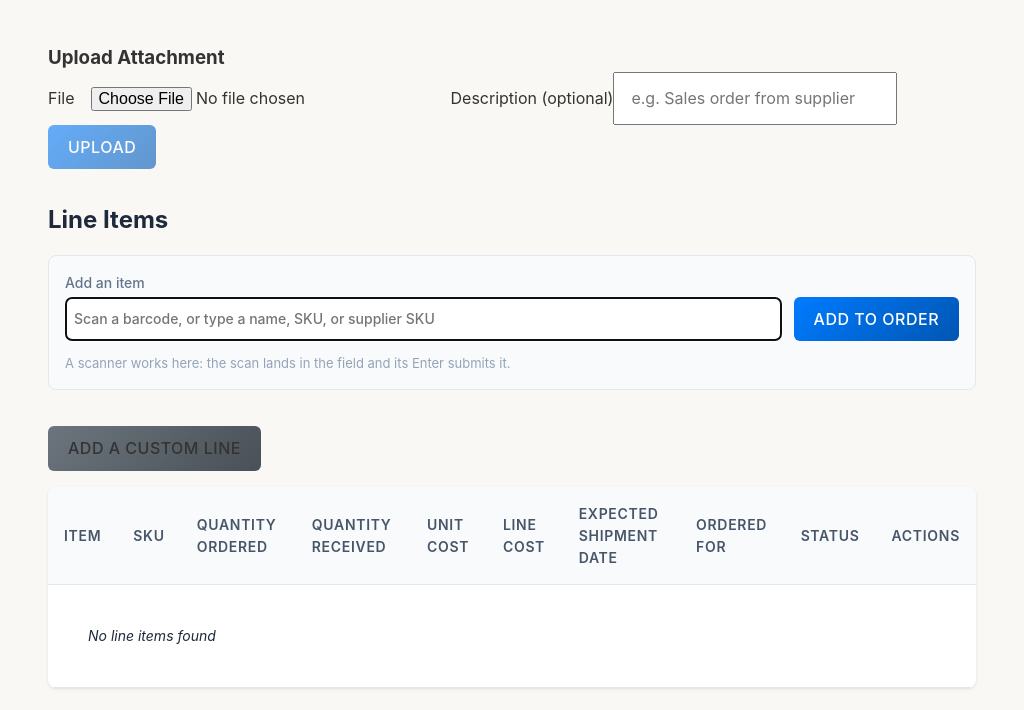
Scenario: PurchaseOrderPage — adding a custom (freeform) line › a server refusal lands under the custom-line form, not the scan field
(page scrolled)
Step 1. Click the button "Add a custom line" → (154, 449), box top-left (48, 426), bottom-right (261, 471)
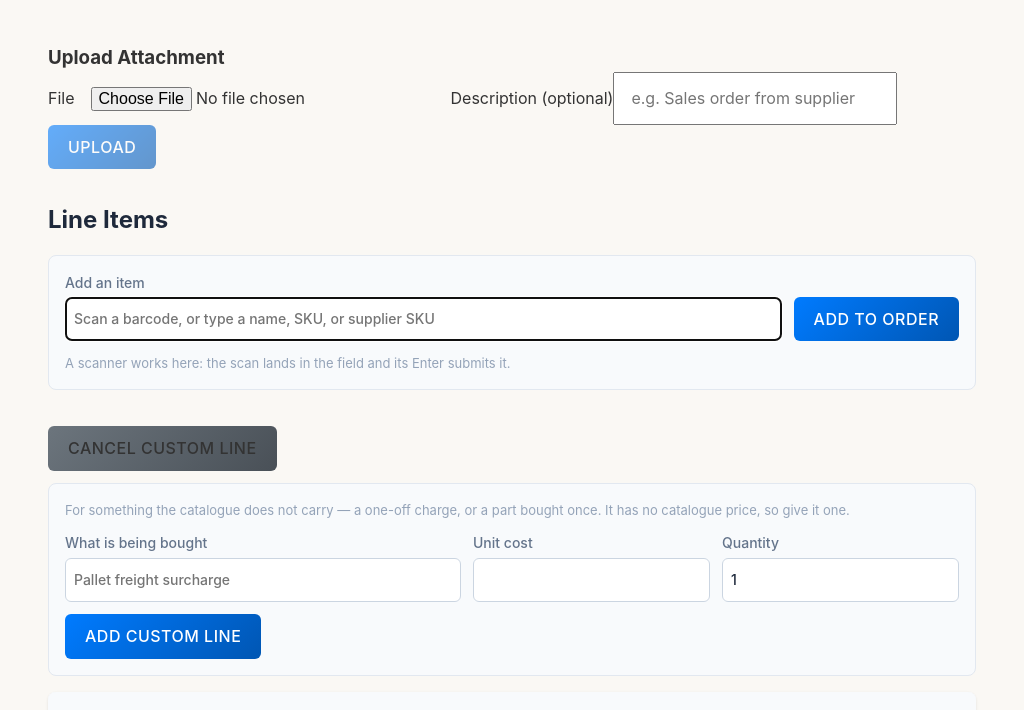
Step 2. Type "Crating" into the field labelled "What is being bought" → (263, 580), box top-left (65, 558), bottom-right (461, 602)
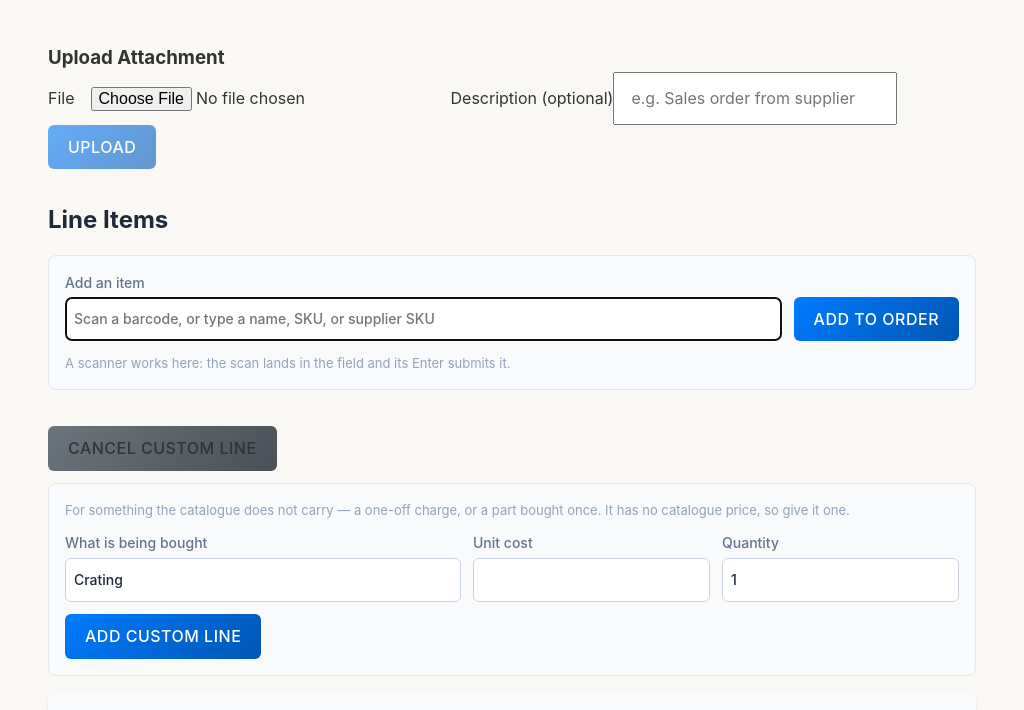
Step 3. Type "9" into the number field labelled "Unit cost" → (592, 580), box top-left (473, 558), bottom-right (710, 602)
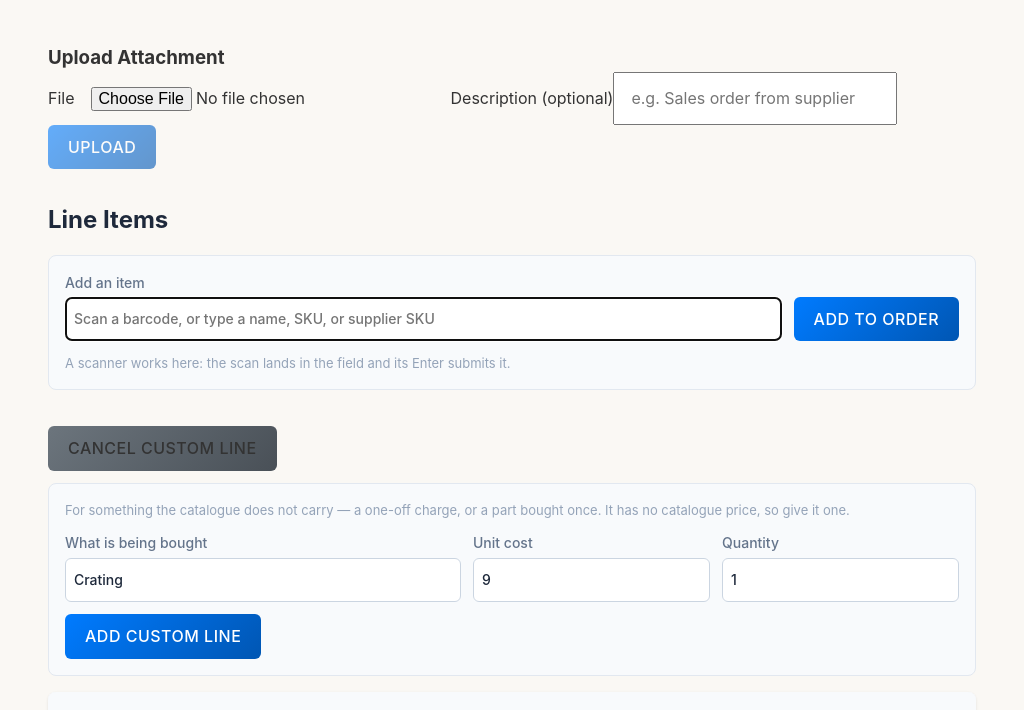
Step 4. Click the button "Add custom line" → (163, 636), box top-left (65, 614), bottom-right (261, 659)
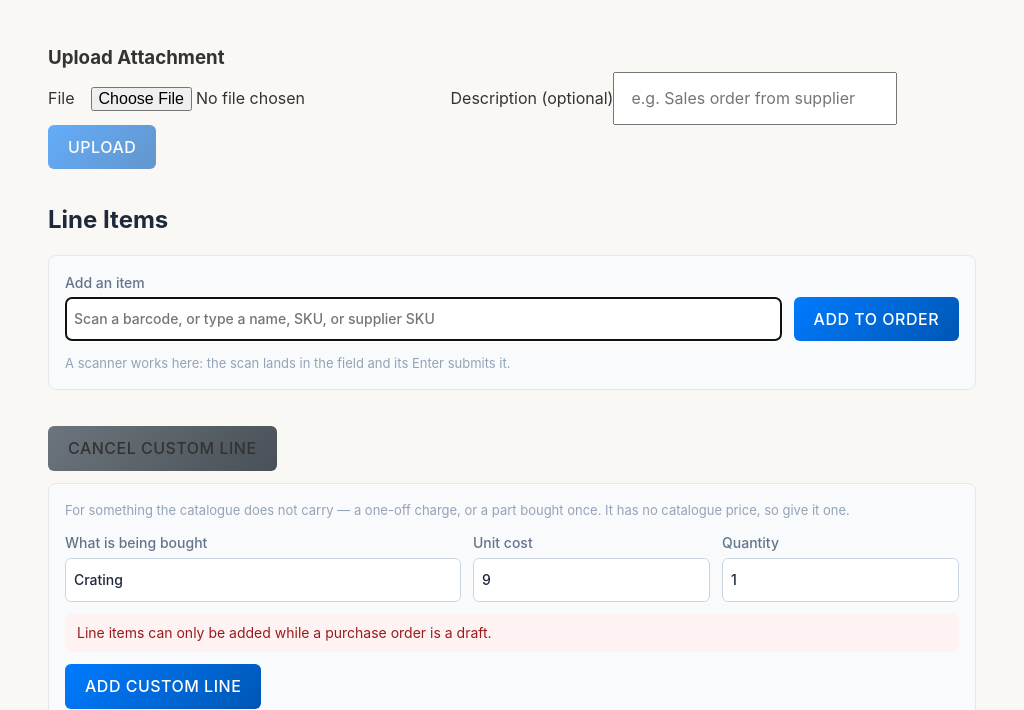
Check: the message shows "only be added while a purchase order is a draft", box top-left (77, 624), bottom-right (492, 641)
